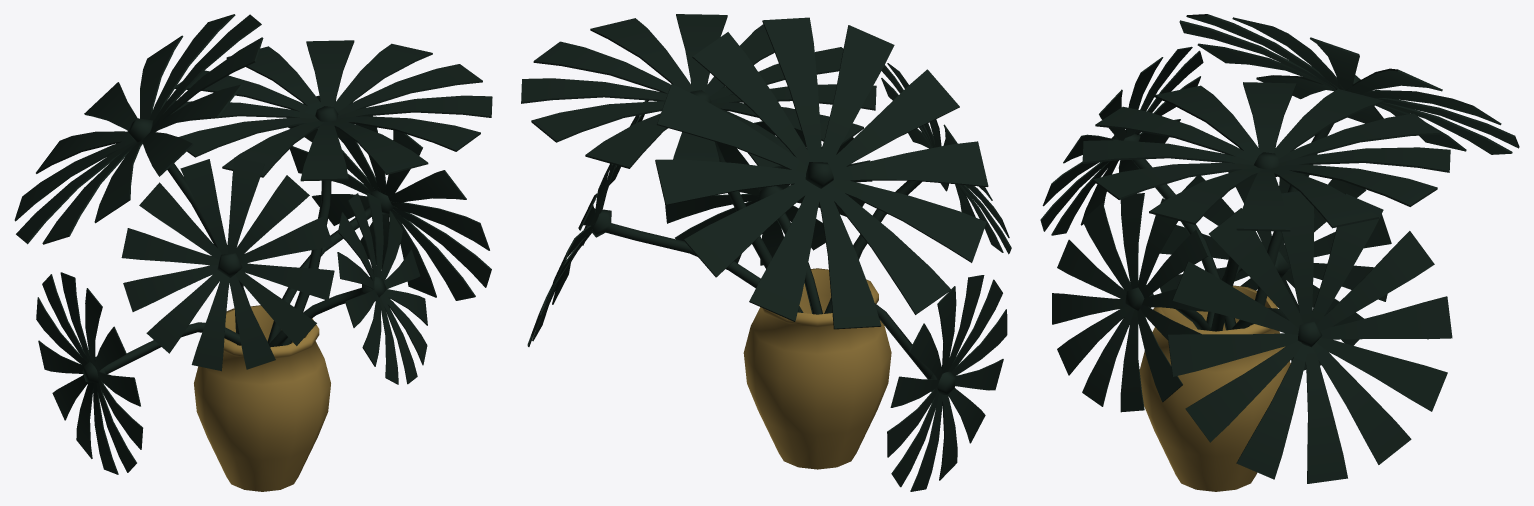
File: DI_025_plant.glb
The picture shows the model from 3 angles, left to right: view 1: azimuth 30°, elevation 25°; view 2: azimuth 150°, elevation 25°; view 3: azimuth 270°, elevation 25°; orthographic projection. The views are drawn at different scales.
Parts seen in each view (by area): view 1: Leafs.006, Leafs.002, Leafs.001, Pot, Leafs.003, Leafs.005, Leafs.004, Stems; view 2: Leafs.001, Leafs.002, Pot, Leafs.005, Stems, Leafs.004, Leafs.006, Leafs.003; view 3: Leafs.003, Leafs.002, Leafs.004, Leafs.001, Pot, Leafs.006, Leafs.005, Stems.
Boxes of the visible parts, bbox=[...] form: Leafs.006: bbox=[121, 157, 334, 371]; Leafs.002: bbox=[171, 40, 492, 181]; Leafs.001: bbox=[14, 14, 263, 244]; Pot: bbox=[194, 305, 330, 491]; Leafs.003: bbox=[288, 95, 491, 300]; Leafs.005: bbox=[36, 272, 143, 474]; Leafs.004: bbox=[337, 193, 427, 384]; Stems: bbox=[82, 106, 393, 383]; Leafs.001: bbox=[655, 17, 988, 329]; Leafs.002: bbox=[521, 14, 876, 168]; Pot: bbox=[743, 268, 891, 469]; Leafs.005: bbox=[887, 275, 1007, 491]; Stems: bbox=[586, 90, 955, 394]; Leafs.004: bbox=[665, 121, 872, 265]; Leafs.006: bbox=[881, 63, 1011, 254]; Leafs.003: bbox=[527, 100, 648, 346]; Leafs.003: bbox=[1167, 191, 1452, 483]; Leafs.002: bbox=[1082, 82, 1450, 231]; Leafs.004: bbox=[1052, 193, 1210, 412]; Leafs.001: bbox=[1179, 14, 1519, 154]; Pot: bbox=[1139, 285, 1290, 491]; Leafs.006: bbox=[1040, 46, 1203, 235]; Leafs.005: bbox=[1160, 164, 1391, 370]; Stems: bbox=[1111, 75, 1360, 347].
Bounding box in the file's own units: 2.34 × 2.25 × 2.11.
